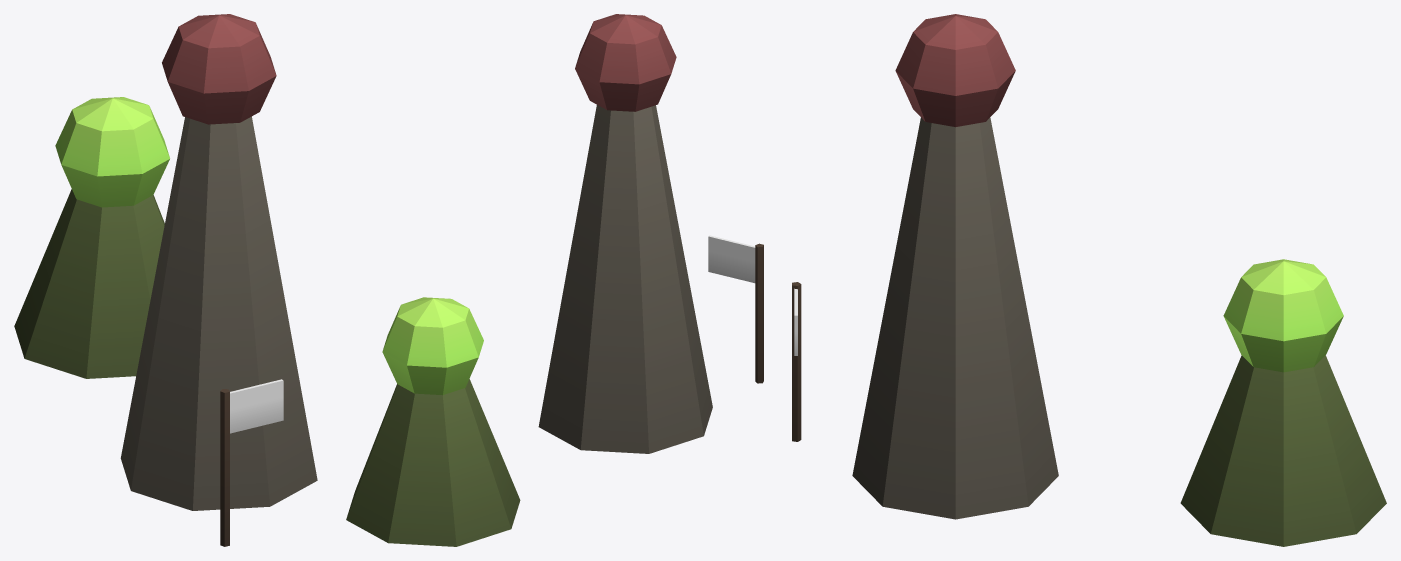
The model's file is FORTRESS.glb.
3 renders of one model, left to right at view 1: azimuth 30°, elevation 25°; view 2: azimuth 150°, elevation 25°; view 3: azimuth 270°, elevation 25°, orthographic. The views are drawn at different scales.
Visible parts, largest first — view 1: Body, Flag; view 2: Body, Flag; view 3: Body.
Boxes of the visible parts, x1,y1,x2,y2 form: Body: [14, 14, 317, 546]; Flag: [230, 379, 283, 433]; Body: [346, 14, 763, 546]; Flag: [708, 235, 755, 283]; Body: [792, 14, 1386, 546].
Bounding box in the file's own units: 1.58 × 2.95 × 3.46.
1 material, 1 textured.
